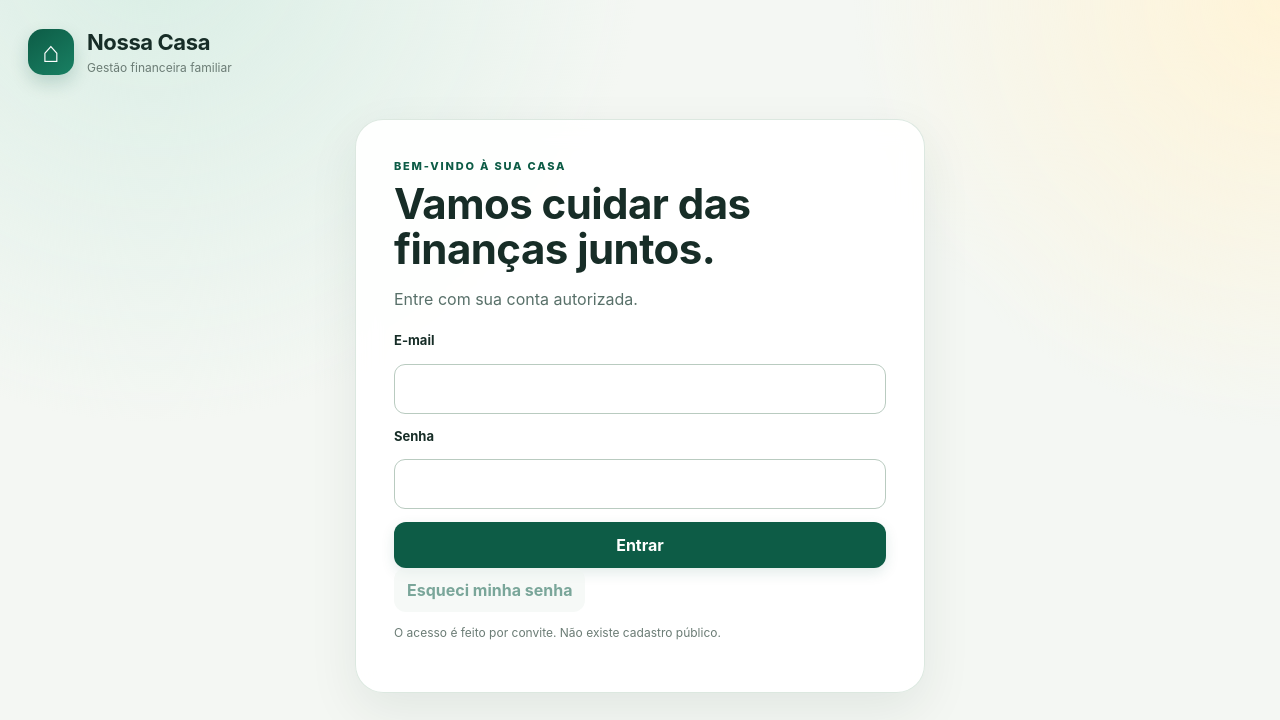
Scenario: acesso privado › faz login real pelo gateway e informa falhas sem detalhes internos
Step 1. Type "a@example.invalid" into the field labelled "E-mail" → (640, 389), box [394,364,886,414]
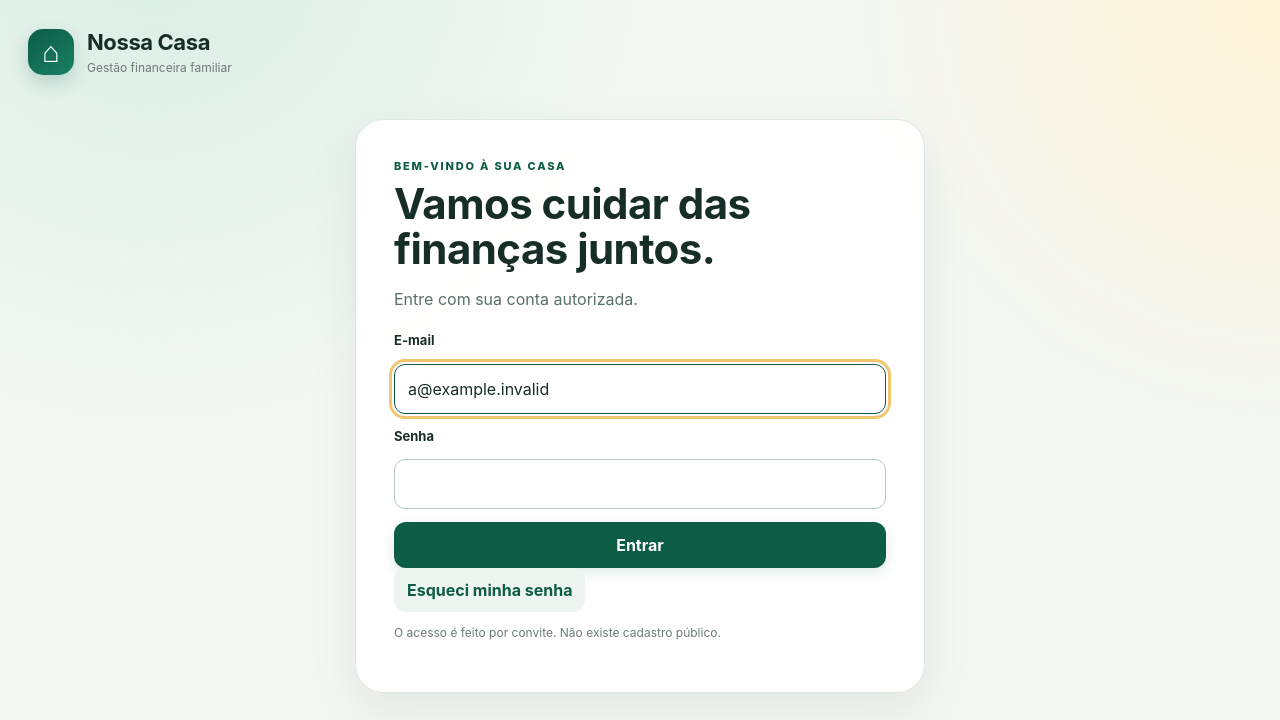
Step 2. Type "senha" into the password field labelled "Senha" → (640, 484), box [394,459,886,509]
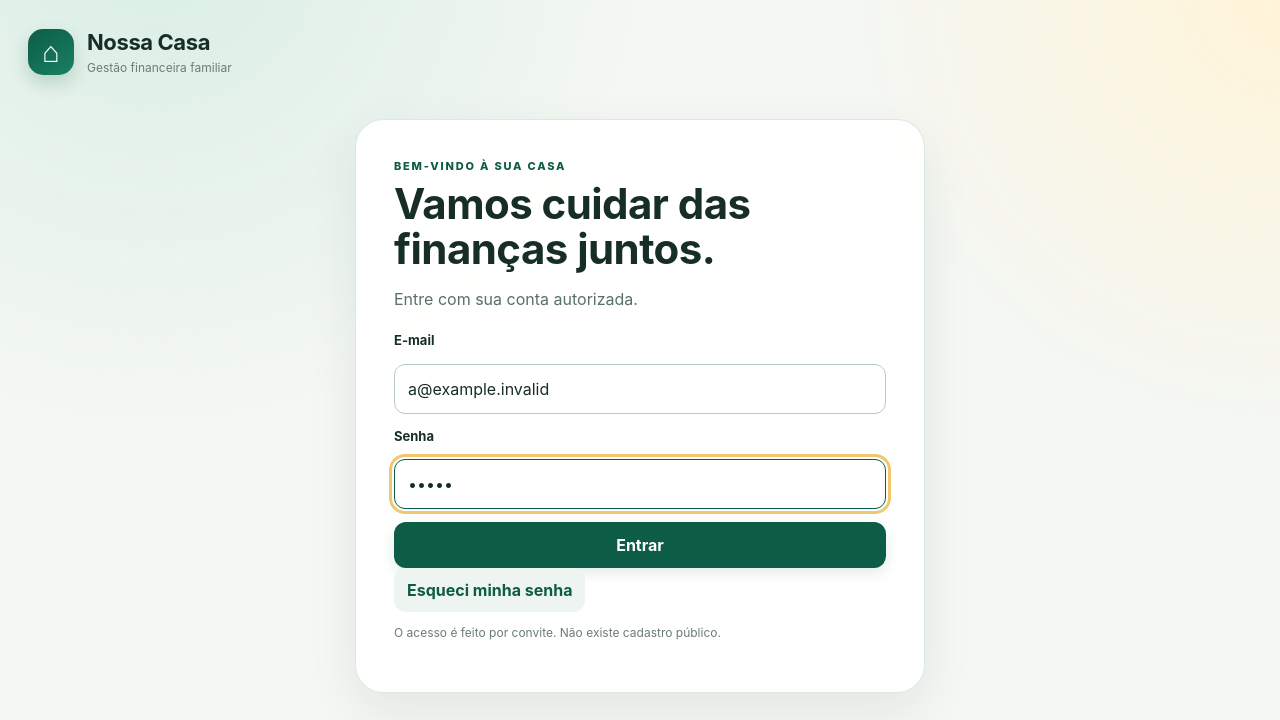
Step 3. Click the button "Entrar" → (640, 545), box [394,522,886,568]
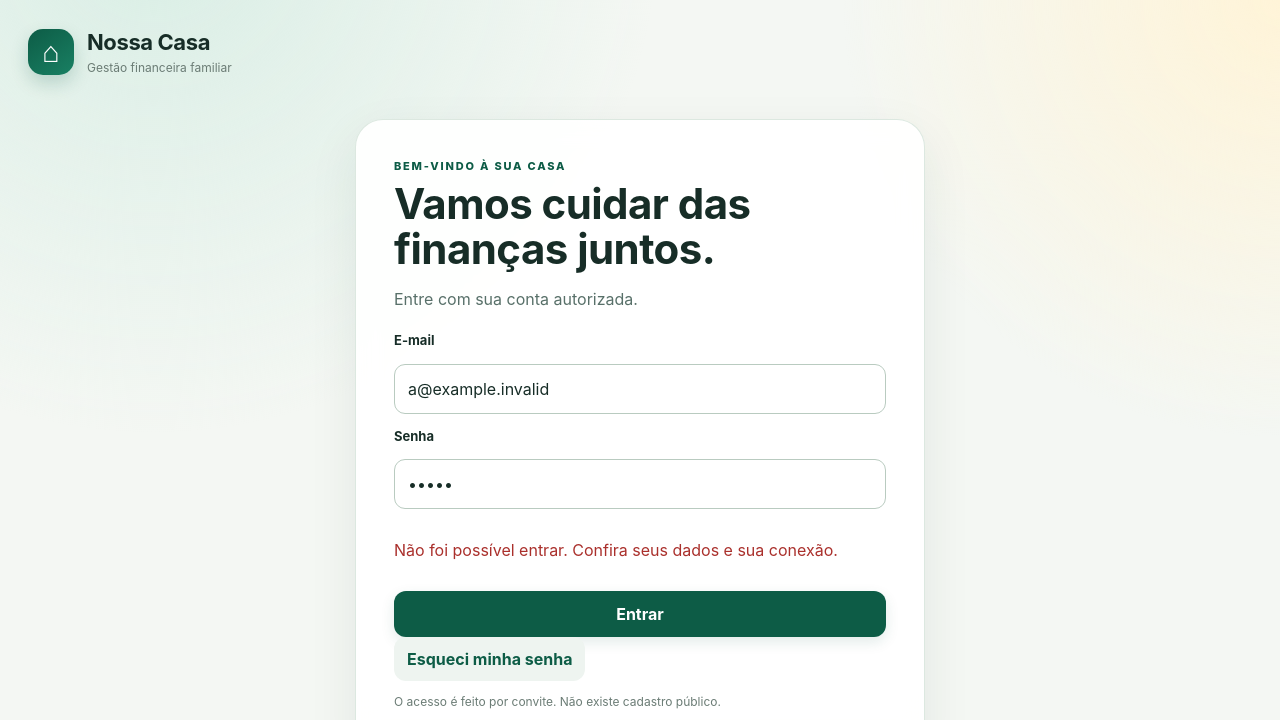
Result: the message shows "Não foi possível entrar" at [394,540,838,560]
